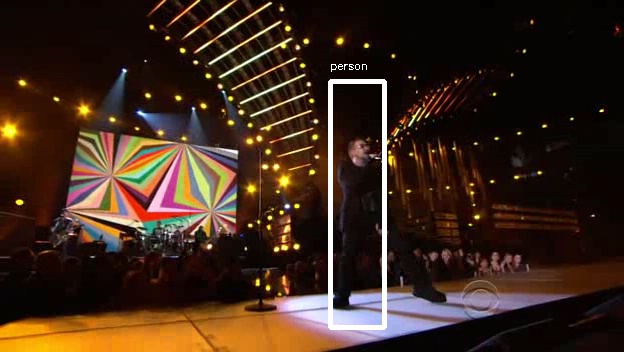person: (339, 137, 406, 243), (336, 137, 403, 243), (342, 137, 409, 243), (339, 134, 406, 240), (339, 140, 406, 246)
target_negative: (447, 189, 623, 211), (186, 292, 254, 329), (321, 230, 474, 239), (332, 203, 338, 333), (178, 322, 197, 330), (619, 338, 620, 343)
